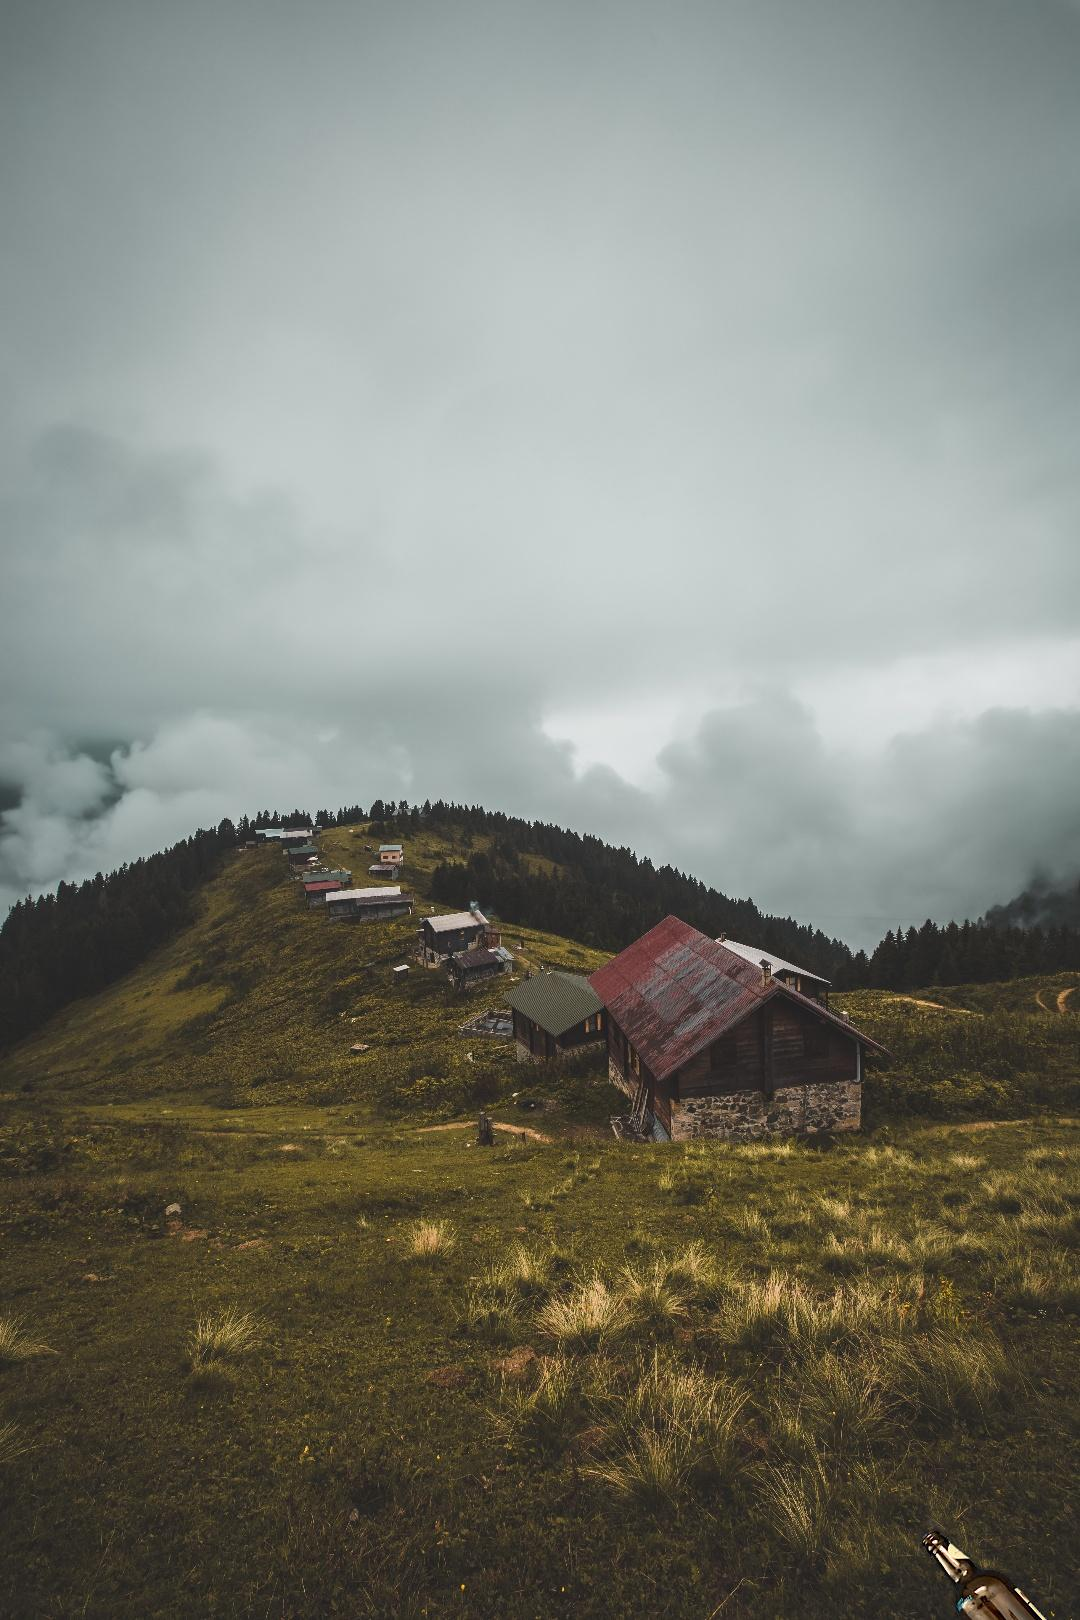glass: (918, 1524, 1080, 1620)
